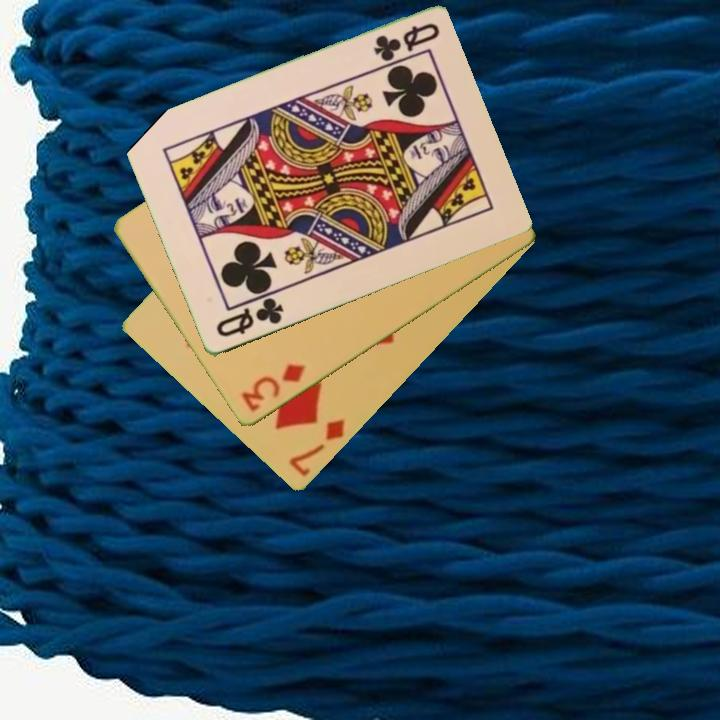3d: (237, 360, 308, 416)
7d: (285, 416, 348, 480)
Qc: (212, 294, 287, 341), (369, 20, 443, 64)
